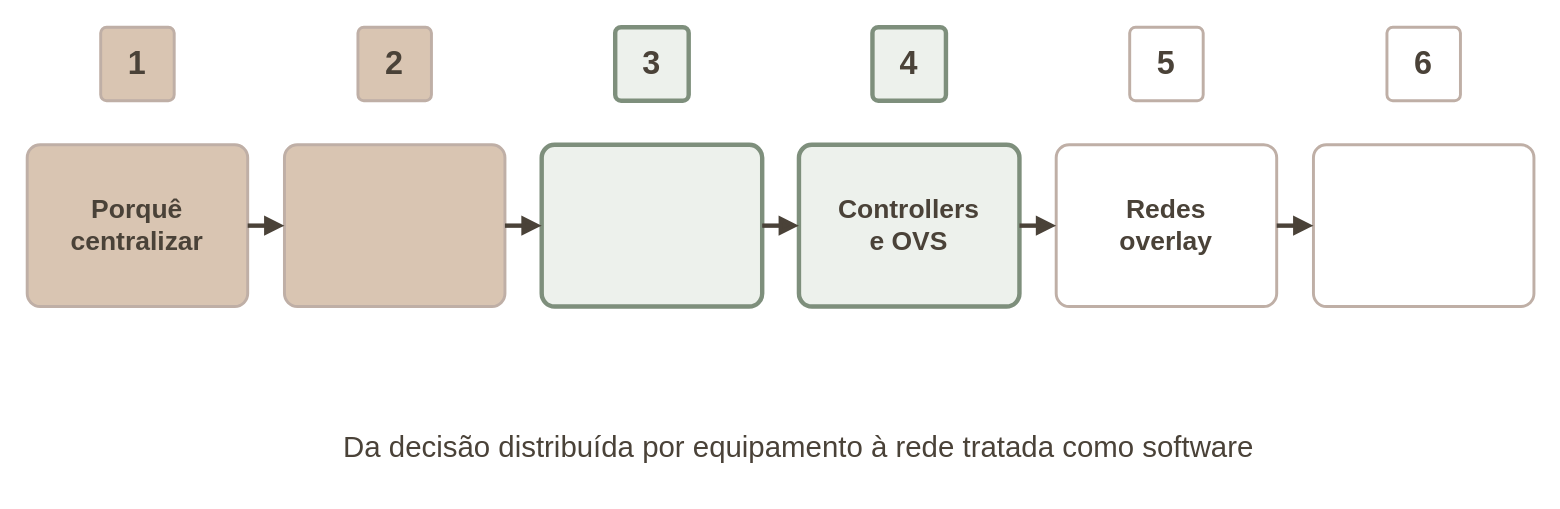
Some shapes in this 1560 by 509 pixel diagram are drawn without their labels. Here are the shapes that lost their labels. From the top down, the box of each, then its label:
(282, 143, 506, 307): Planos e arquitetura SDN
(539, 142, 764, 308): OpenFlow e tabelas de fluxos
(1311, 143, 1535, 307): NFV, políticas e plataformas
